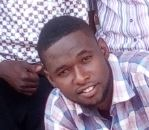without_facemask: (61, 77, 109, 106)
